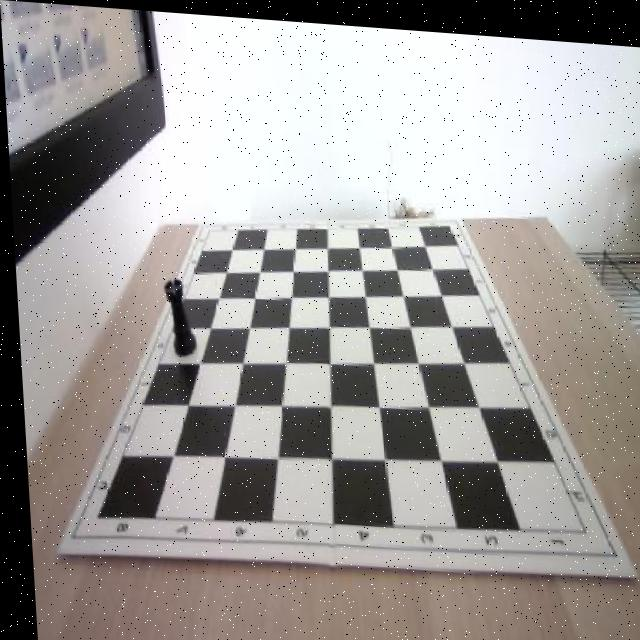black-queen: (159, 275, 193, 356)
